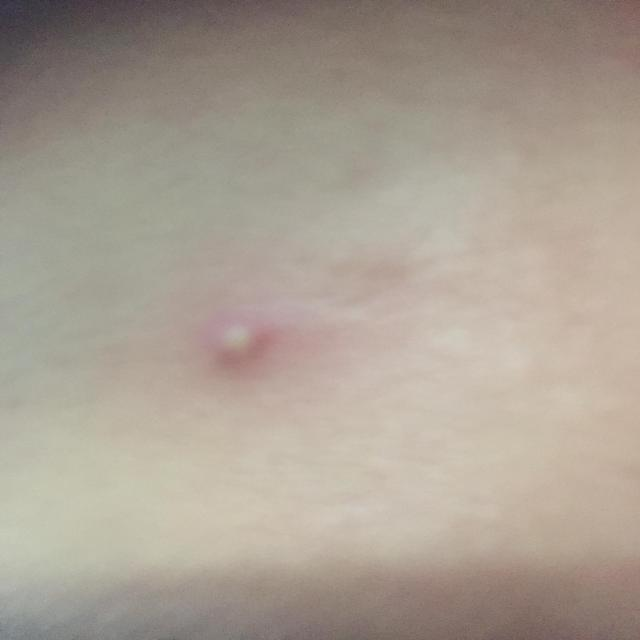blackheads: (202, 305, 299, 373)
